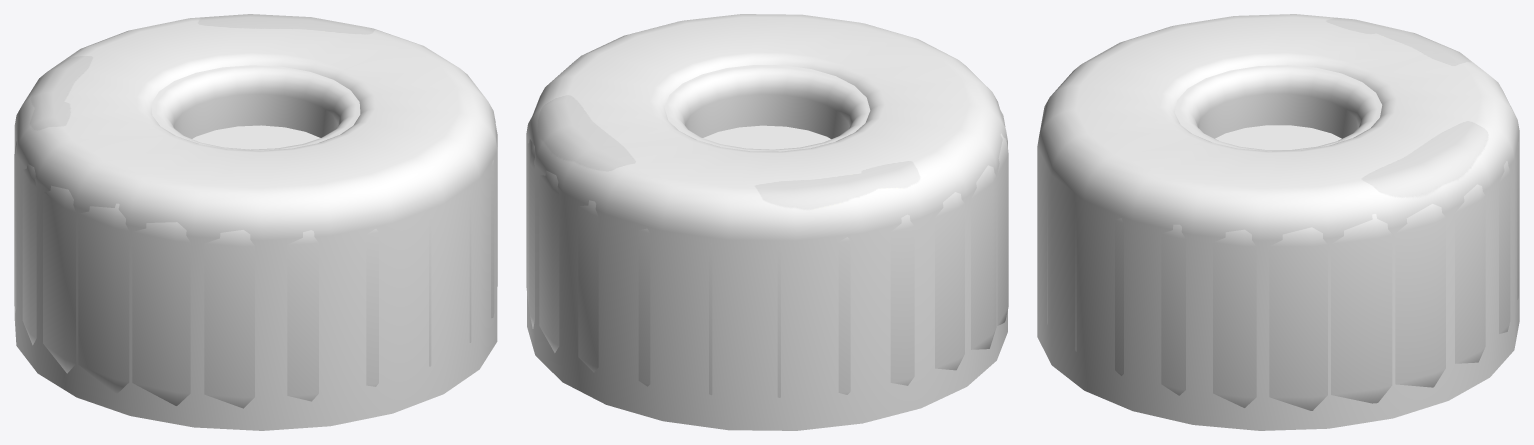
File: Pin Model 1_0.fbx
The picture shows the model from 3 angles, left to right: view 1: azimuth 30°, elevation 25°; view 2: azimuth 150°, elevation 25°; view 3: azimuth 270°, elevation 25°; orthographic projection.
Visible parts, largest first — view 1: Pin_Specular, Pin__1_; view 2: Pin_Specular, Pin__1_; view 3: Pin_Specular, Pin__1_.
Boxes of the visible parts, left/top/right/bottom form: Pin_Specular: left=14, top=14, right=497, bottom=430; Pin__1_: left=14, top=65, right=497, bottom=408; Pin_Specular: left=527, top=14, right=1007, bottom=430; Pin__1_: left=526, top=65, right=1008, bottom=397; Pin_Specular: left=1037, top=14, right=1519, bottom=430; Pin__1_: left=1047, top=65, right=1518, bottom=410.
Bounding box in the file's own units: 0.5768 × 0.3064 × 0.5768.
Materials: 2 (1 with a texture image).
